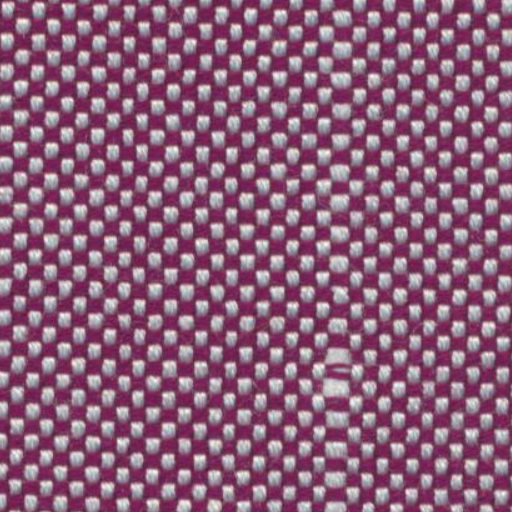DaiSha: (312, 6, 364, 490)
